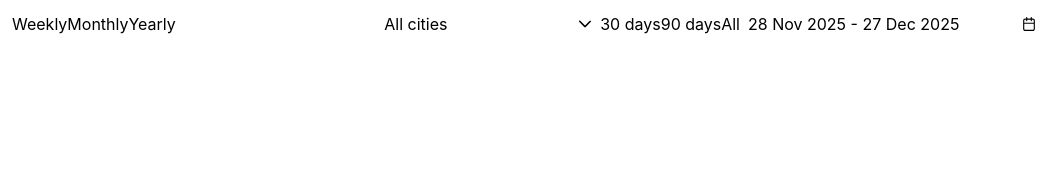
Test: FilterBar › quick ranges set the date range in the URL
Step 1. Click the button "90 days" → (691, 24), box [661,12,721,36]
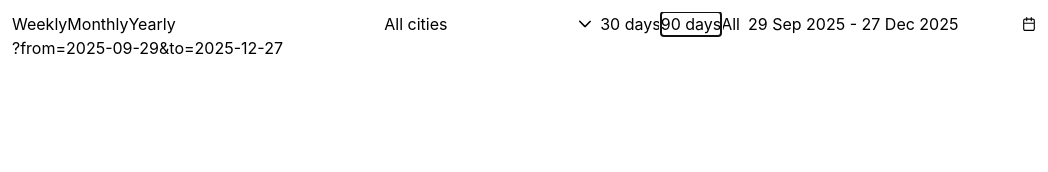
Now the text with test id "url" shows "from=2025-09-29", box [12,38,283,58]
Now the text with test id "url" shows "to=2025-12-27", box [12,38,283,58]
Step 2. Click the button "All" → (731, 24), box [721,12,740,36]
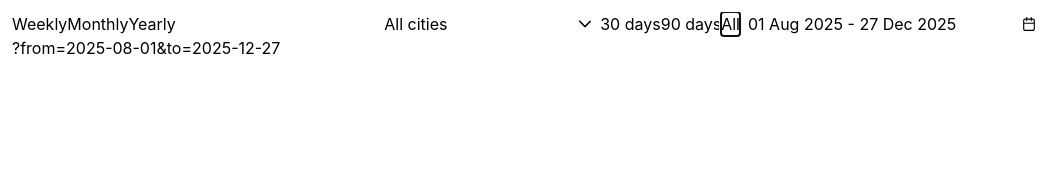
Now the text with test id "url" shows "from=2025-08-01", box [12,38,280,58]
Step 3. Click the button "30 days" → (630, 24), box [600,12,661,36]
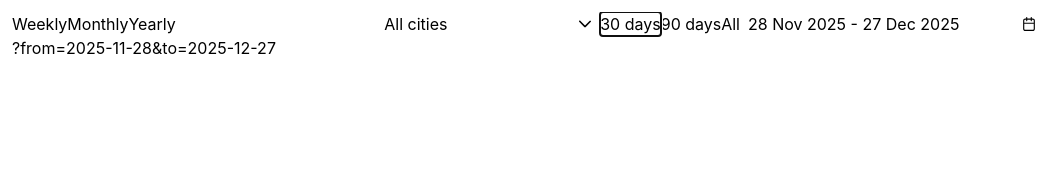
Now the text with test id "url" shows "from=2025-11-28", box [12,38,276,58]
